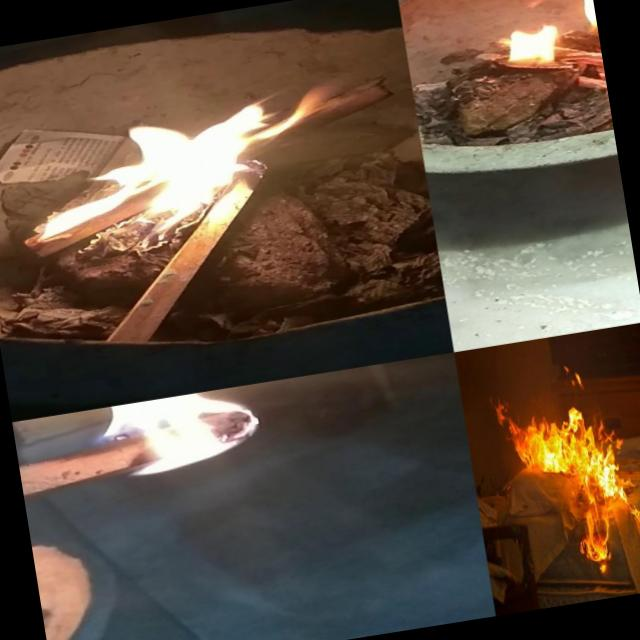fire: (18, 80, 360, 270), (489, 370, 640, 581), (66, 382, 278, 498), (495, 0, 610, 118)
